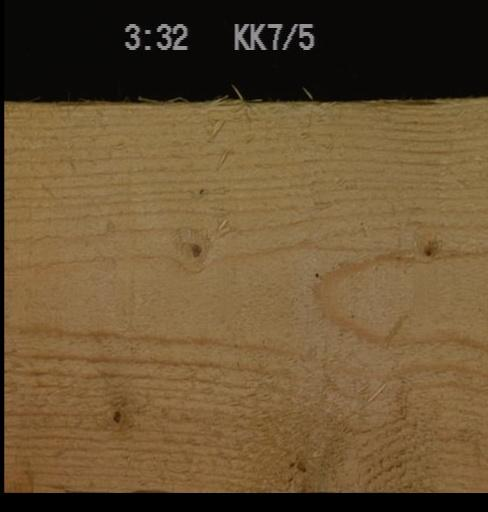small_knot: (96, 397, 130, 427), (418, 230, 444, 263), (188, 237, 207, 260)
